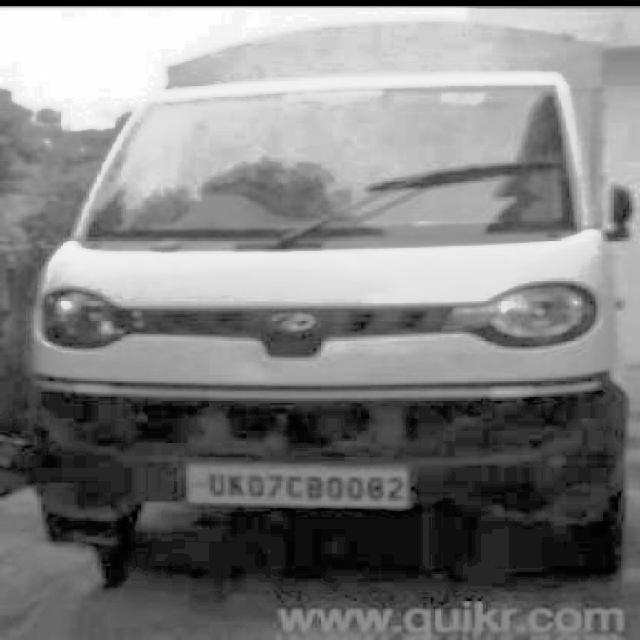LCV: (55, 103, 588, 558)
